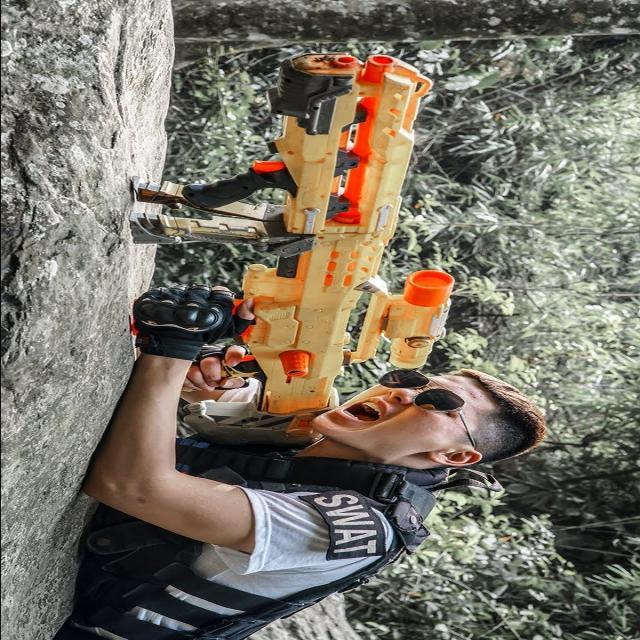Nerf gun: (122, 54, 465, 426)
